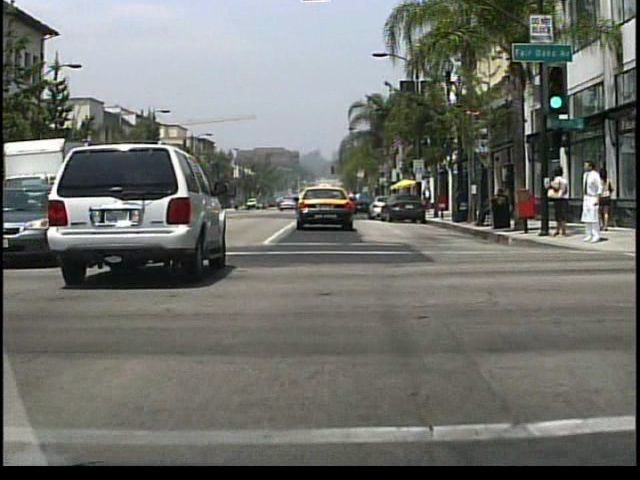person: (578, 159, 603, 243), (545, 163, 568, 238), (595, 168, 618, 235), (470, 190, 496, 229), (493, 179, 506, 225), (422, 185, 433, 210)
